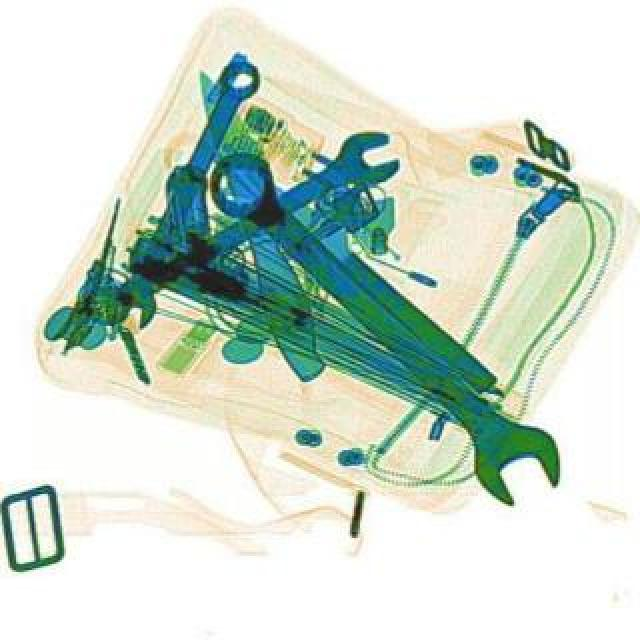gun: (120, 156, 348, 336)
knife: (210, 132, 504, 398), (184, 60, 336, 386)
scissors: (186, 130, 584, 522), (66, 118, 406, 336), (100, 50, 264, 334)
